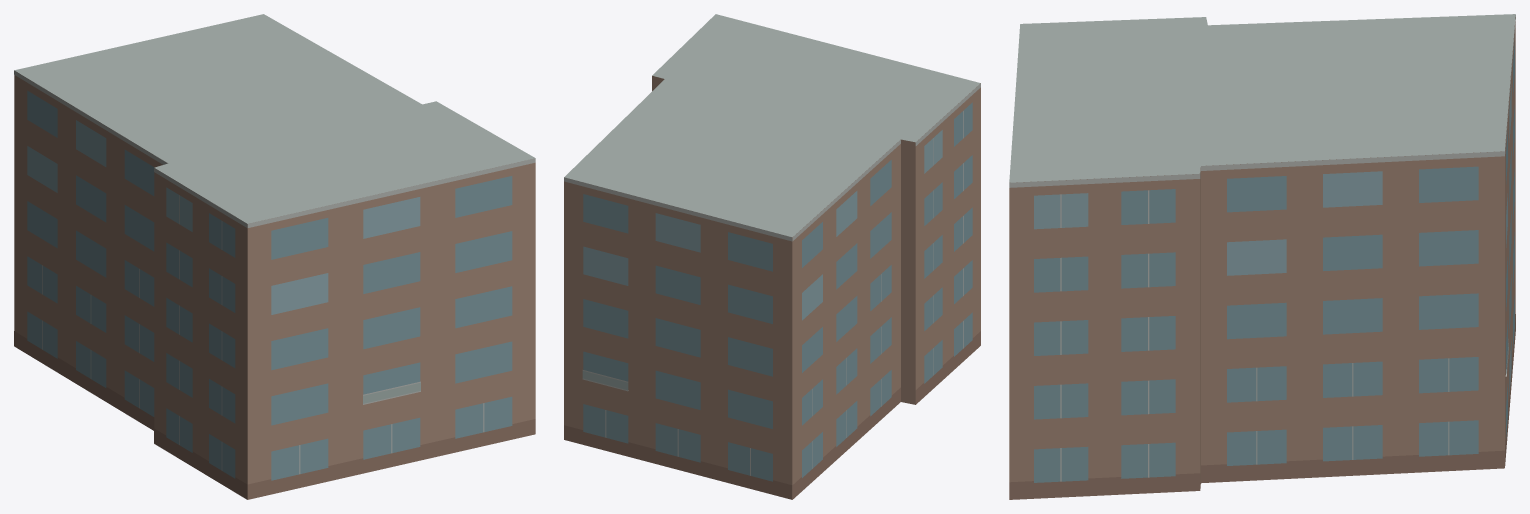
Rendered from survey-upis-32831379.glb.
3 views of the same model, side by side, from view 1: azimuth 30°, elevation 25°; view 2: azimuth 150°, elevation 25°; view 3: azimuth 270°, elevation 25° (orthographic). The views are drawn at different scales.
Visible parts, largest first — view 1: survey-upis-32831379.tmp; view 2: survey-upis-32831379.tmp; view 3: survey-upis-32831379.tmp.
Part boxes in pixels (x1=…): survey-upis-32831379.tmp: x1=14, y1=14, x2=535, y2=499; survey-upis-32831379.tmp: x1=564, y1=14, x2=980, y2=499; survey-upis-32831379.tmp: x1=1009, y1=14, x2=1515, y2=499.
Size of the model in its own units: 17.42 by 15.25 by 22.09.
